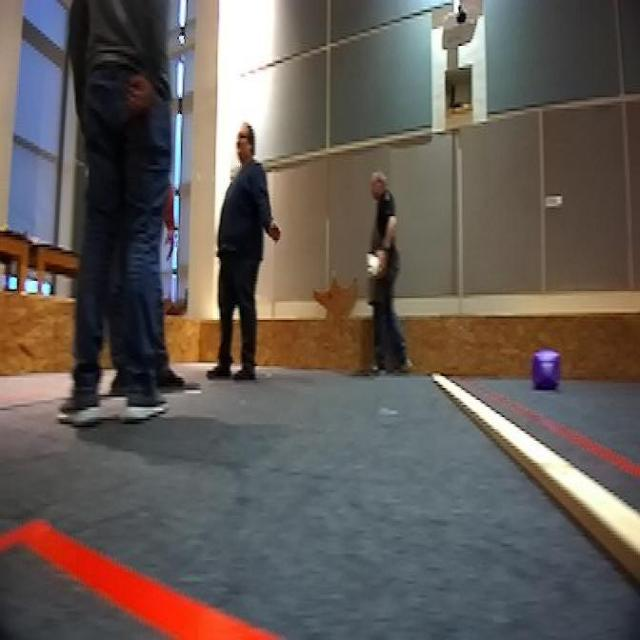frc_cube: (532, 347, 562, 395)
